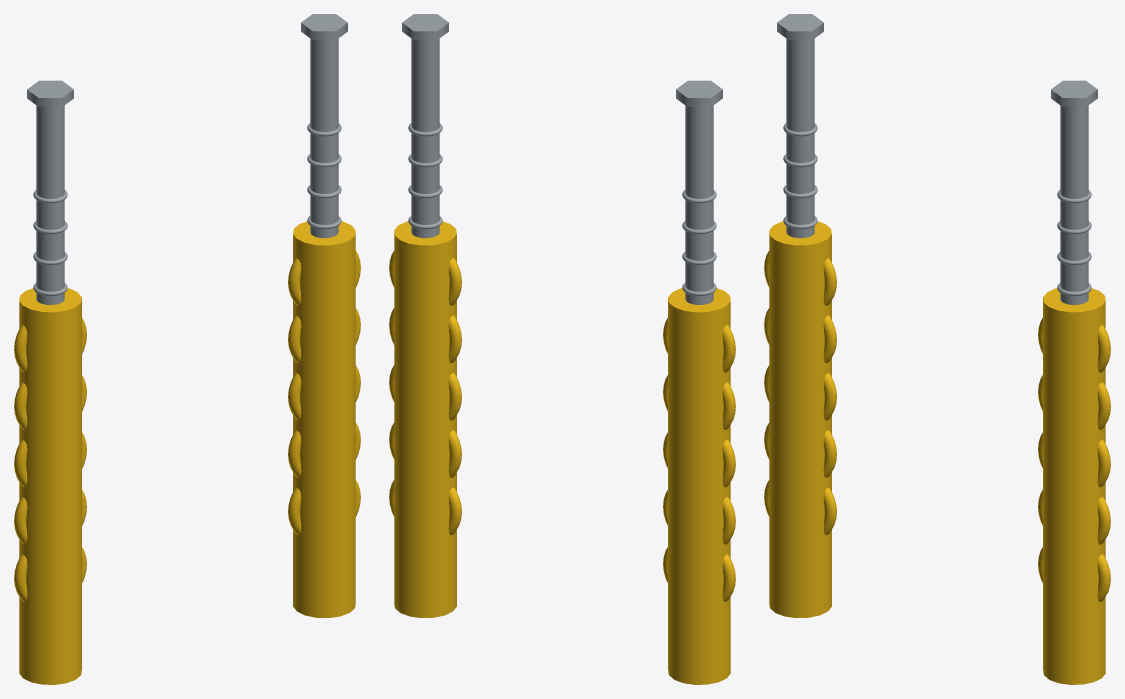
File: tox_and_screw.glb
The picture shows the model from 3 angles, left to right: view 1: azimuth 30°, elevation 25°; view 2: azimuth 150°, elevation 25°; view 3: azimuth 330°, elevation 25°; orthographic projection.
Visible parts, largest first — view 1: Yellow wall plug (×2), Screw shaft (×2), Wall-plug grip (×10), Screw head (×2); view 2: Yellow wall plug (×2), Screw shaft (×2), Wall-plug grip (×10), Screw head (×2); view 3: Yellow wall plug (×2), Screw shaft (×2), Wall-plug grip (×10), Screw head (×2).
Boxes of the visible parts, x1,y1,x2,y2 form: Yellow wall plug (×2): [19, 221, 355, 684]; Screw shaft (×2): [36, 38, 338, 304]; Wall-plug grip (×10): [14, 250, 360, 601]; Screw head (×2): [27, 14, 347, 106]; Yellow wall plug (×2): [394, 221, 730, 684]; Screw shaft (×2): [411, 38, 713, 304]; Wall-plug grip (×10): [389, 250, 735, 601]; Screw head (×2): [402, 14, 722, 106]; Yellow wall plug (×2): [769, 221, 1105, 684]; Screw shaft (×2): [786, 38, 1088, 304]; Wall-plug grip (×10): [764, 250, 1110, 601]; Screw head (×2): [777, 14, 1097, 106].
Bounding box in the file's own units: 0.126 × 0.2031 × 0.02.
